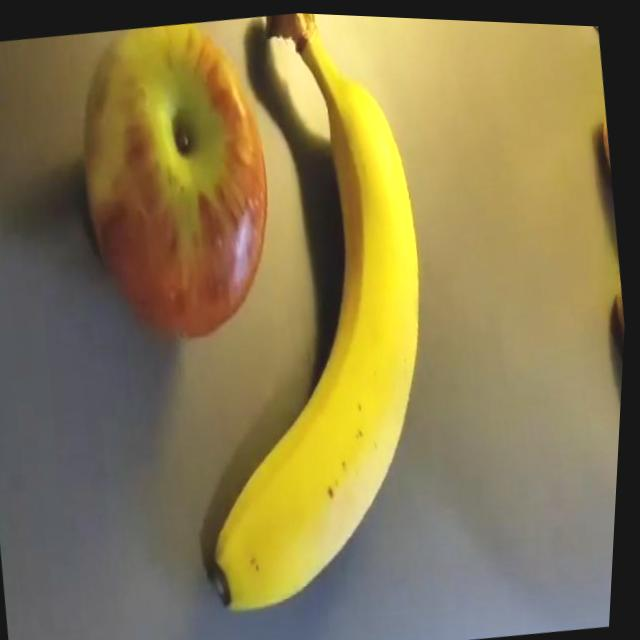Apple: (55, 8, 297, 362)
Banana: (136, 11, 483, 628)
